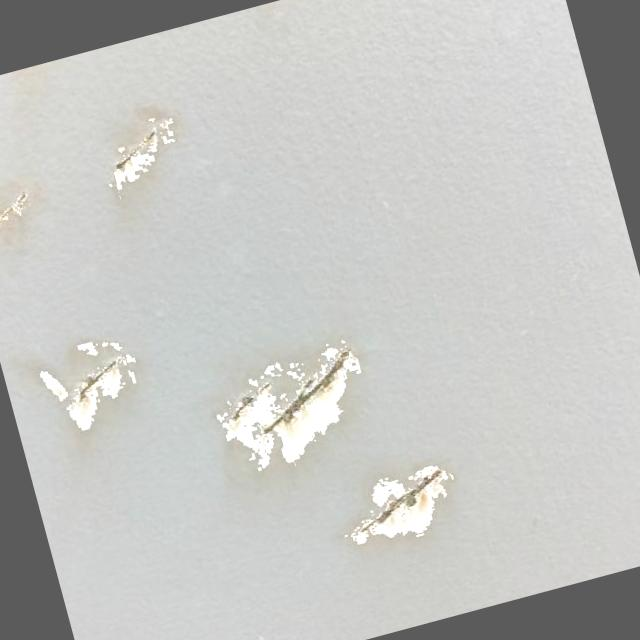crack: (264, 349, 350, 432), (353, 467, 449, 537), (111, 129, 158, 173), (231, 382, 272, 420), (79, 362, 114, 405), (0, 192, 25, 222)
dent: (216, 346, 348, 472), (39, 338, 135, 432), (372, 465, 456, 538), (130, 104, 177, 176), (0, 181, 40, 231)
